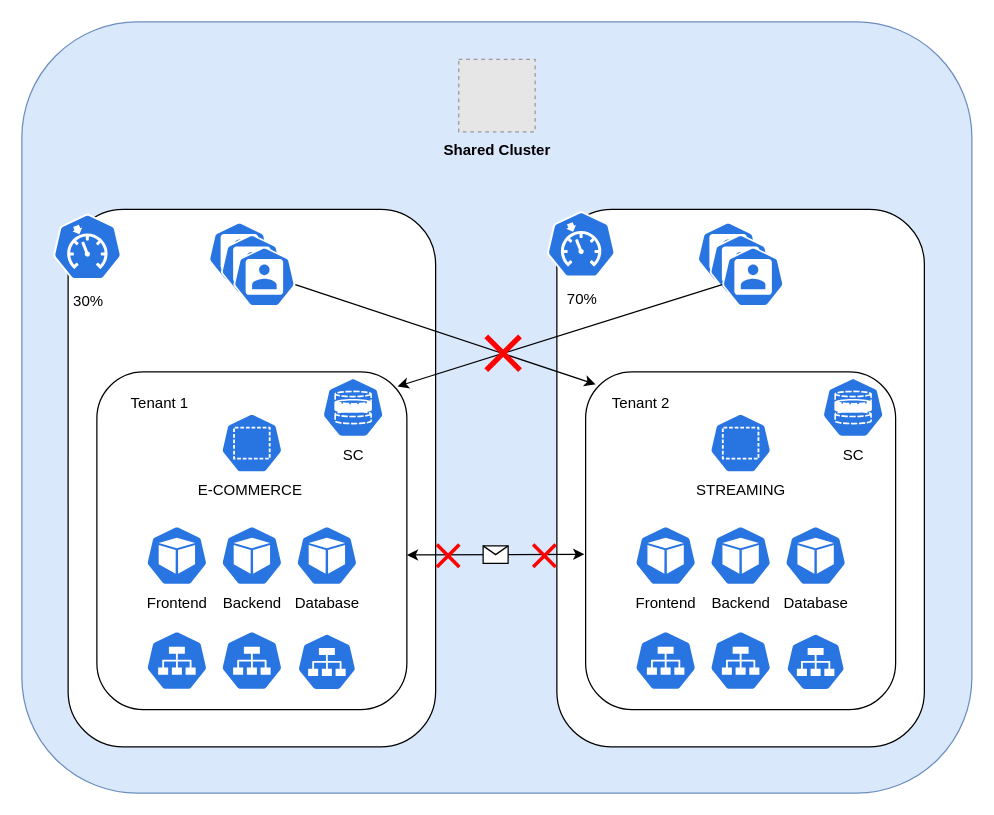
The diagram is 994 pixels wide and 815 high, and some of its shapes have lost their labels. Grey dashed boxes stand in for pictures. Each missing label, with the centre of its shape:
Team A: pixel 264 276
Team B: pixel 752 276
